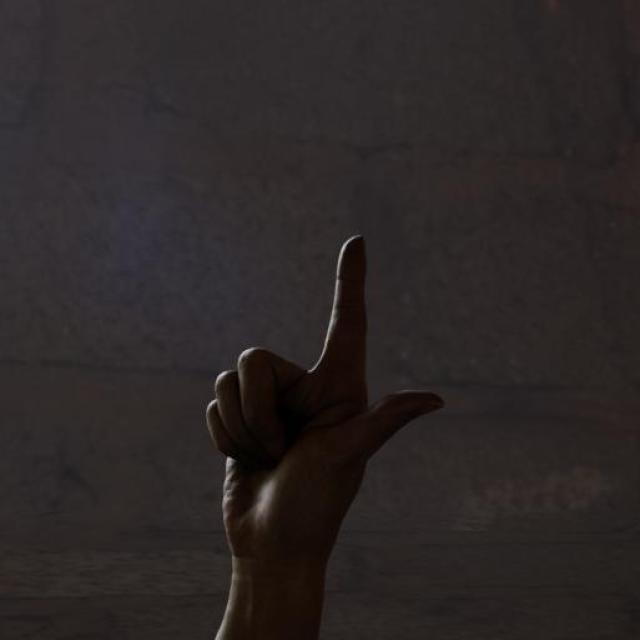L: (202, 230, 449, 568)
